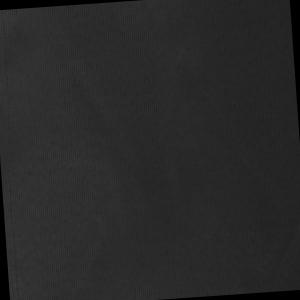Wrinkle: (174, 53, 300, 275), (60, 49, 175, 252)
